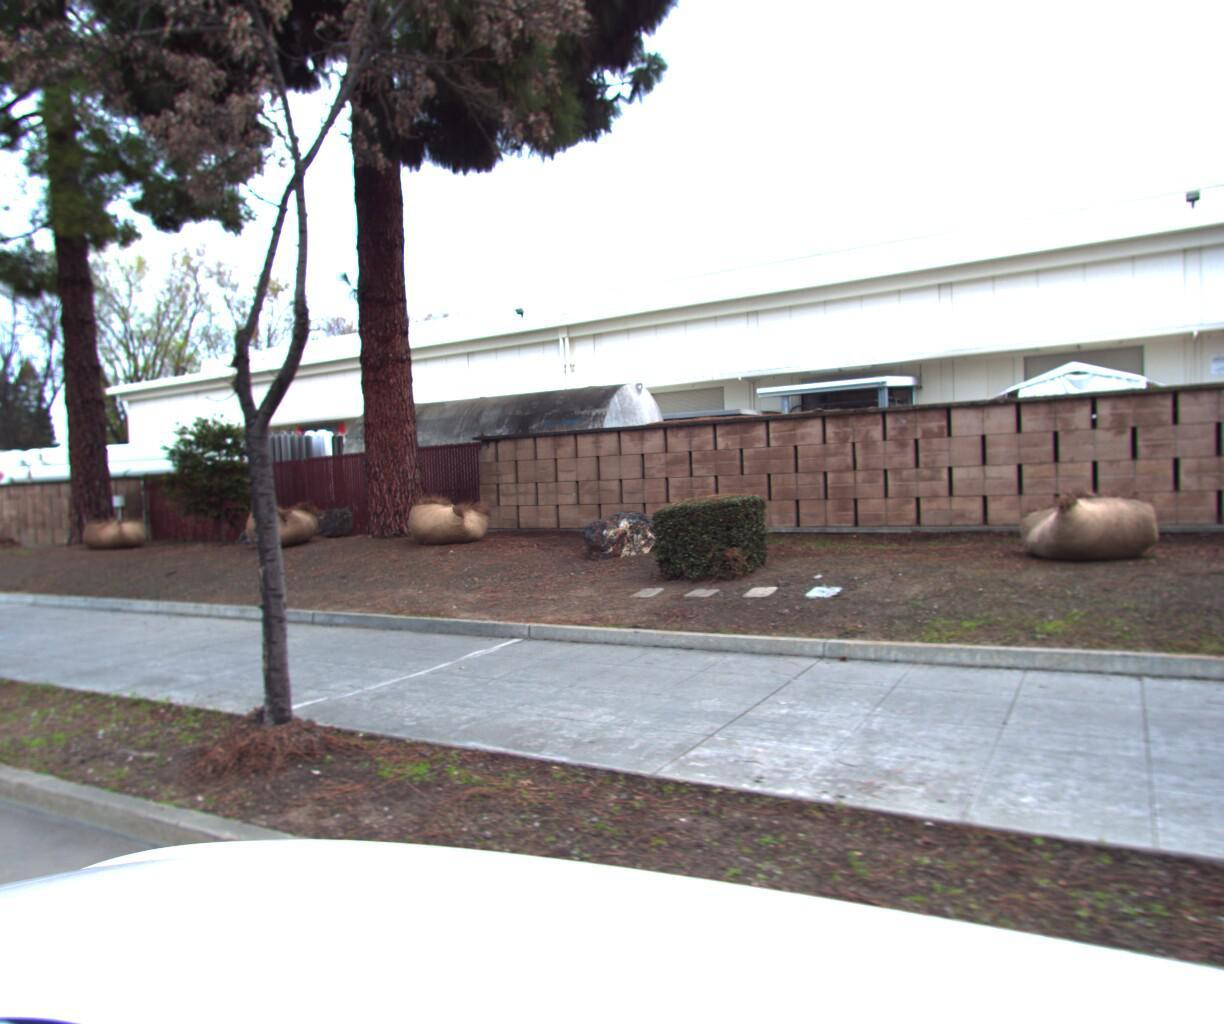other_vehicle: (0, 433, 411, 539)
